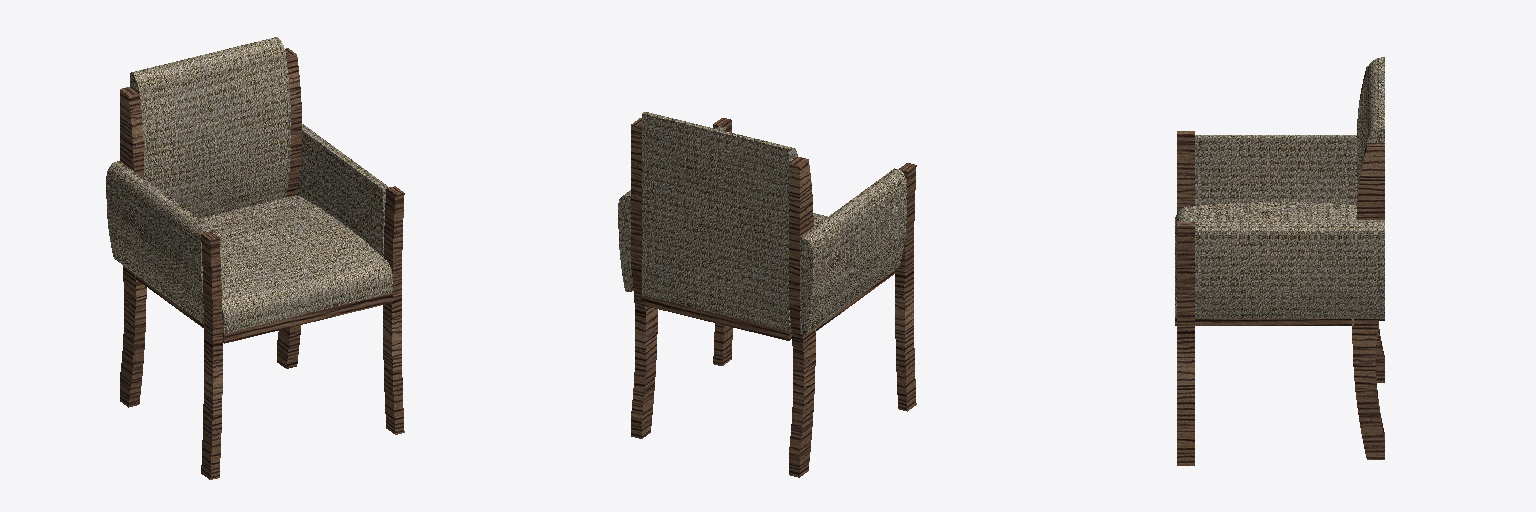
3 views of the same model, side by side, from view 1: azimuth 30°, elevation 25°; view 2: azimuth 150°, elevation 25°; view 3: azimuth 270°, elevation 25° (orthographic).
Parts seen in each view (by area): view 1: group_8.002_ID150, group_1.005_ID133, group_2.005_ID142; view 2: group_8.002_ID150, group_1.005_ID133, group_2.005_ID142; view 3: group_8.002_ID150, group_2.005_ID142, group_1.005_ID133.
Part boxes in pixels (x1,y1,x2,y2): group_8.002_ID150: (106,37,392,407); group_1.005_ID133: (201,231,222,479); group_2.005_ID142: (383,186,404,434); group_8.002_ID150: (618,112,906,477); group_1.005_ID133: (895,163,916,411); group_2.005_ID142: (713,118,732,365); group_8.002_ID150: (1175,57,1384,459); group_2.005_ID142: (1177,222,1194,465); group_1.005_ID133: (1177,131,1194,212).
Size of the model in its own units: 5.7 by 9.13 by 5.33.
2 materials, 2 textured.